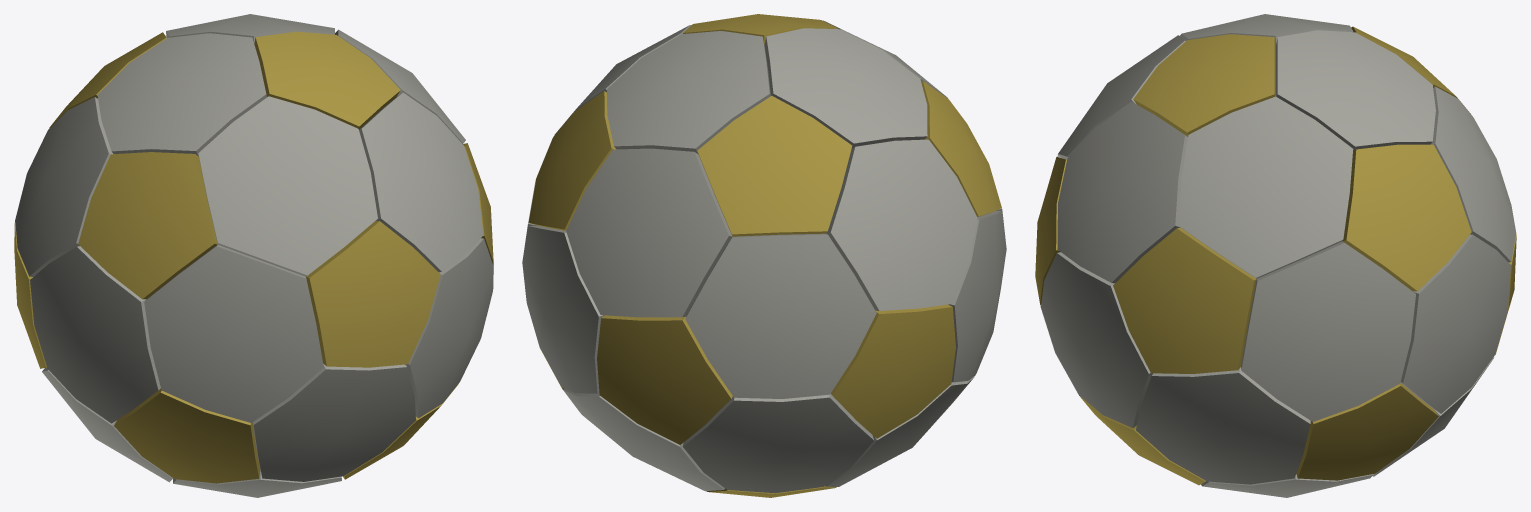
The model's file is SoccerBall_Yellow.fbx.
The picture shows the model from 3 angles, left to right: view 1: azimuth 30°, elevation 25°; view 2: azimuth 150°, elevation 25°; view 3: azimuth 270°, elevation 25°; orthographic projection.
Visible parts, largest first — view 1: SoccerBall_Yellow; view 2: SoccerBall_Yellow; view 3: SoccerBall_Yellow.
Boxes of the visible parts, bbox=[...] form: SoccerBall_Yellow: bbox=[14, 14, 493, 497]; SoccerBall_Yellow: bbox=[522, 14, 1006, 497]; SoccerBall_Yellow: bbox=[1035, 14, 1516, 497].
Bounding box in the file's own units: 38.7 × 39.19 × 38.99.
